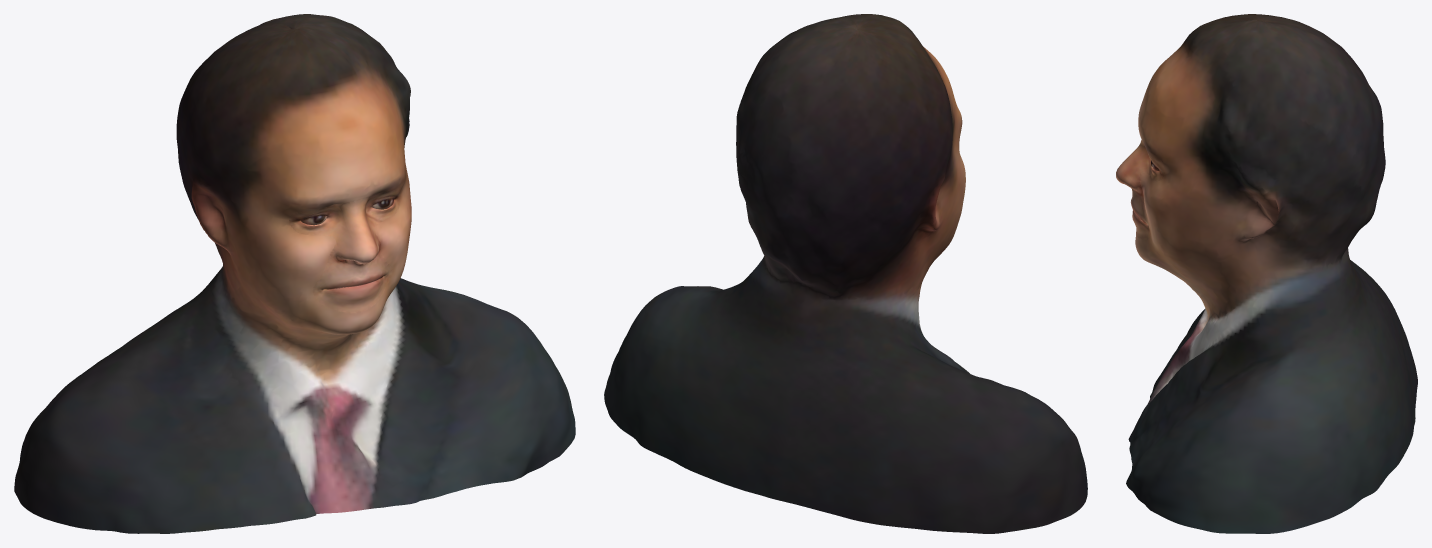
3 views of the same model, side by side, from view 1: azimuth 30°, elevation 25°; view 2: azimuth 150°, elevation 25°; view 3: azimuth 270°, elevation 25° (orthographic). The views are drawn at different scales.
Visible parts, largest first — view 1: Object_2; view 2: Object_2; view 3: Object_2.
Part boxes in pixels (x1=…): Object_2: x1=14, y1=14, x2=575, y2=533; Object_2: x1=604, y1=14, x2=1087, y2=533; Object_2: x1=1116, y1=14, x2=1417, y2=533.
Bounding box in the file's own units: 0.4709 × 0.387 × 0.2646.
1 material, 1 textured.
